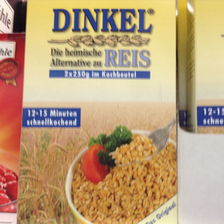rice: (17, 1, 179, 223)
